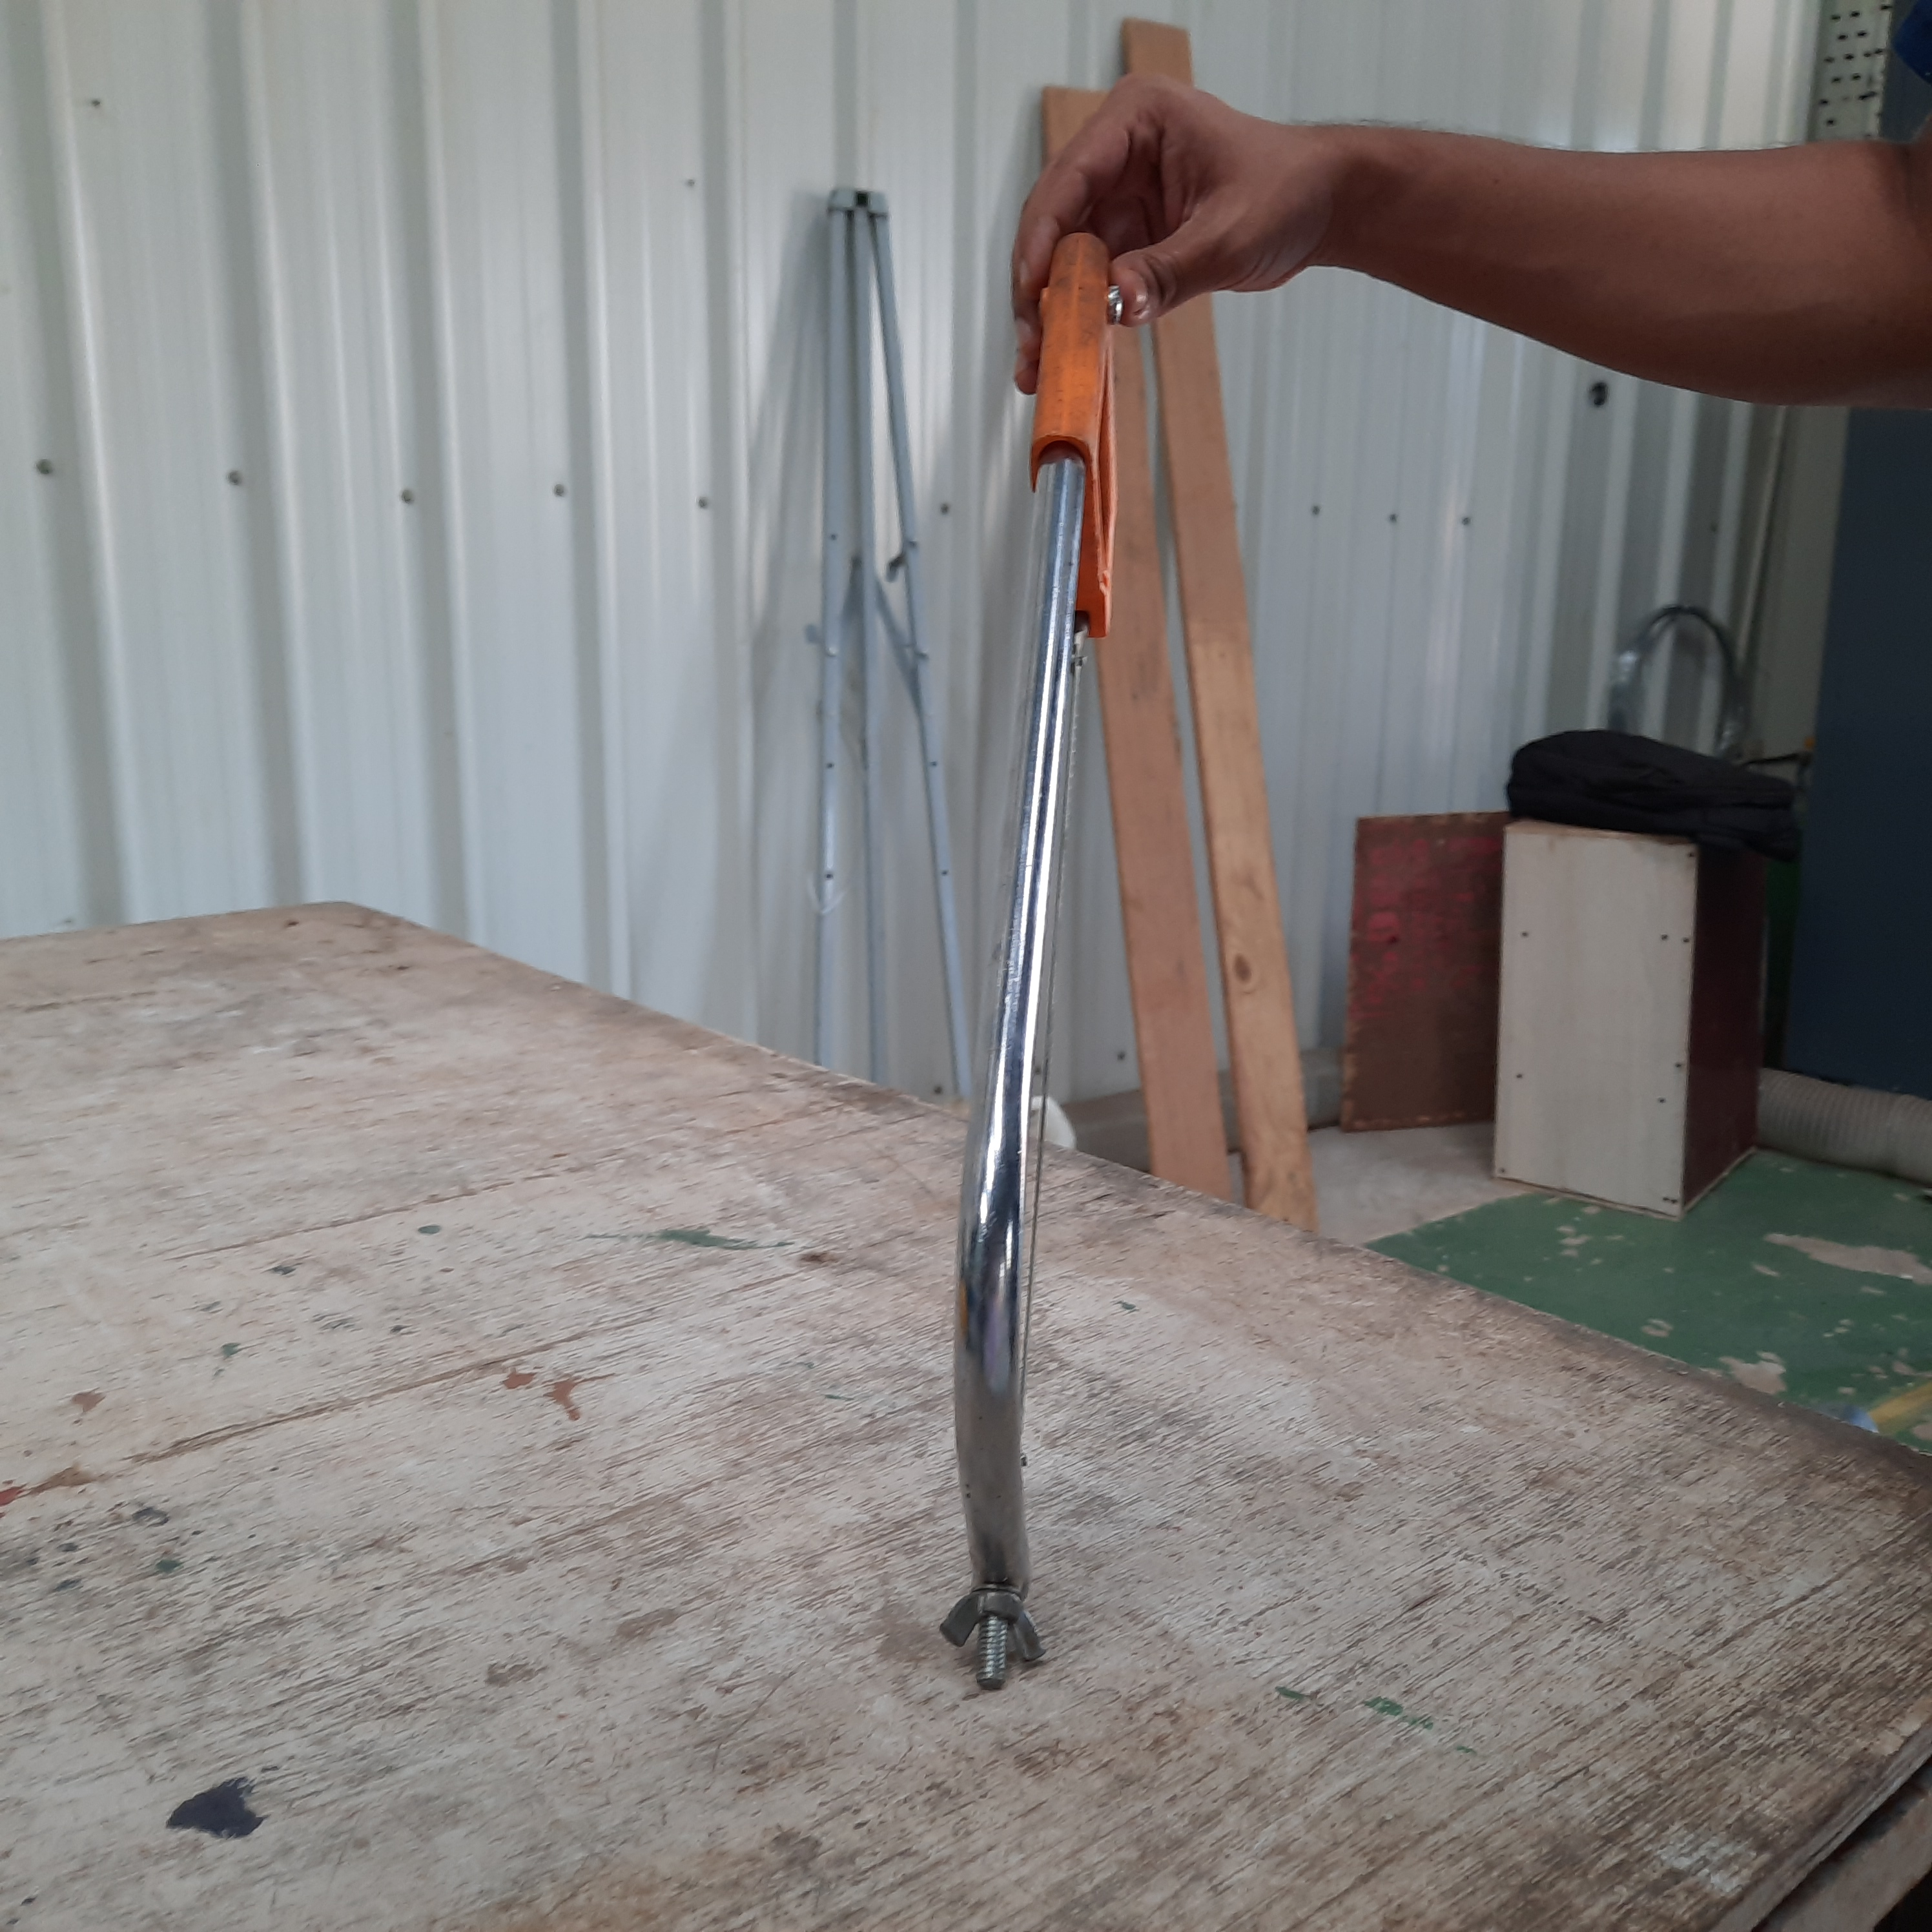Hexaframe: (899, 221, 1203, 1741)
